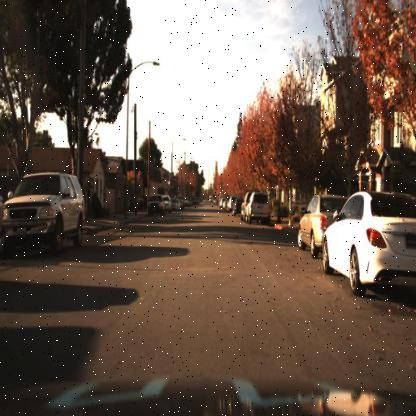car: (319, 189, 415, 299), (0, 167, 86, 256), (296, 193, 349, 258), (246, 192, 270, 223), (146, 191, 164, 218)
